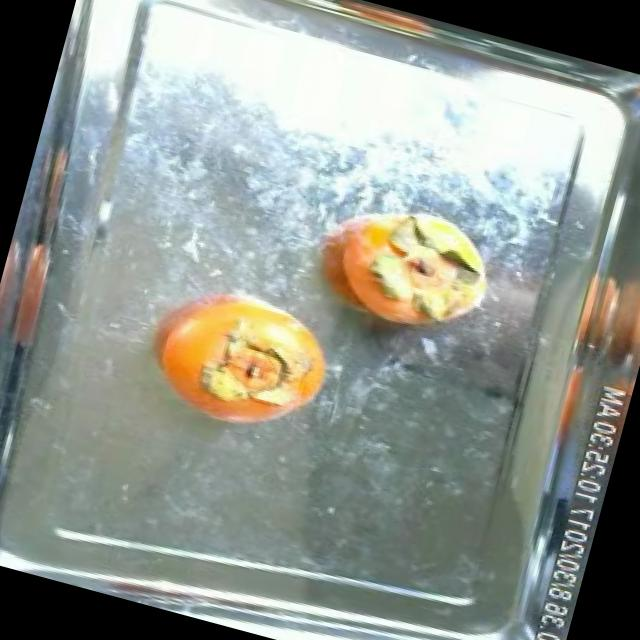Fruit: (186, 284, 351, 434)
